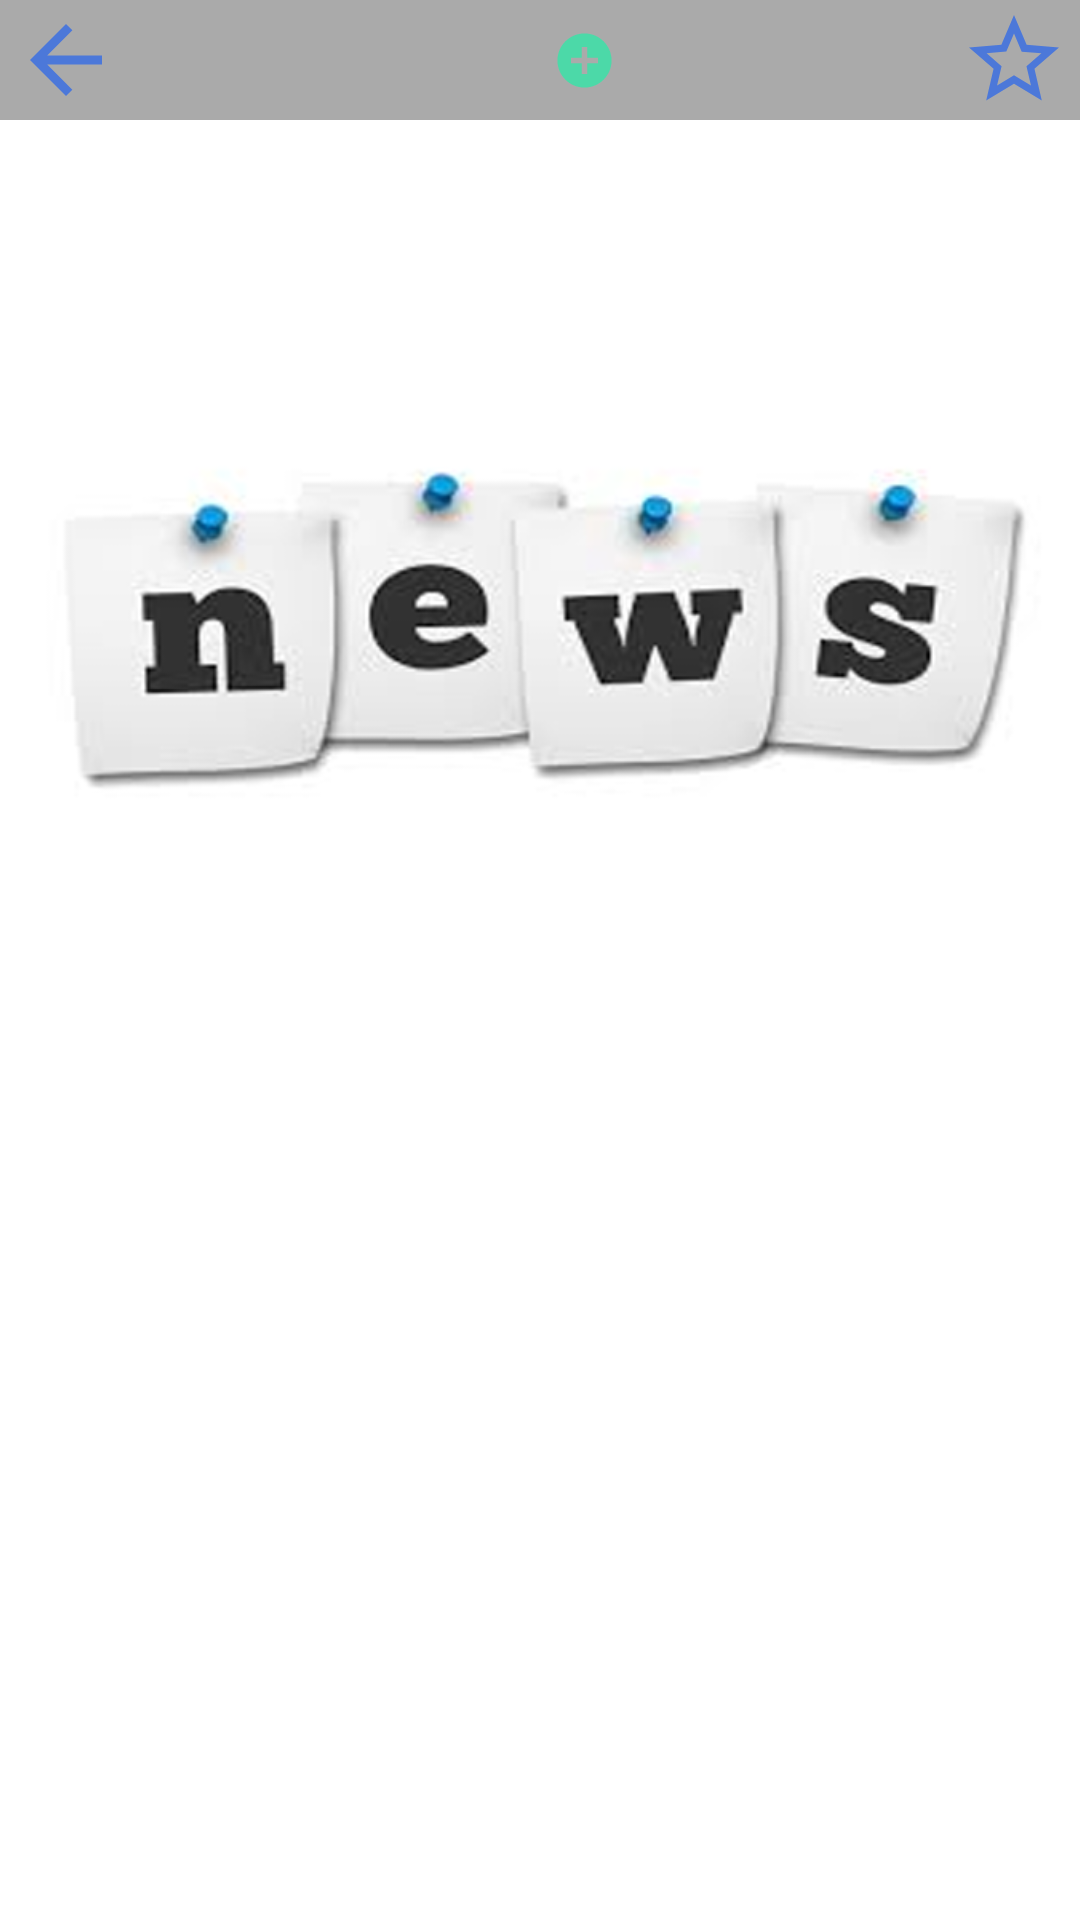

Point at icon controls on the screen. Image size 1080x1920, points as [x,y].
add circle: [584,60]
arrow back: [66,60]
star border: [1014,58]
